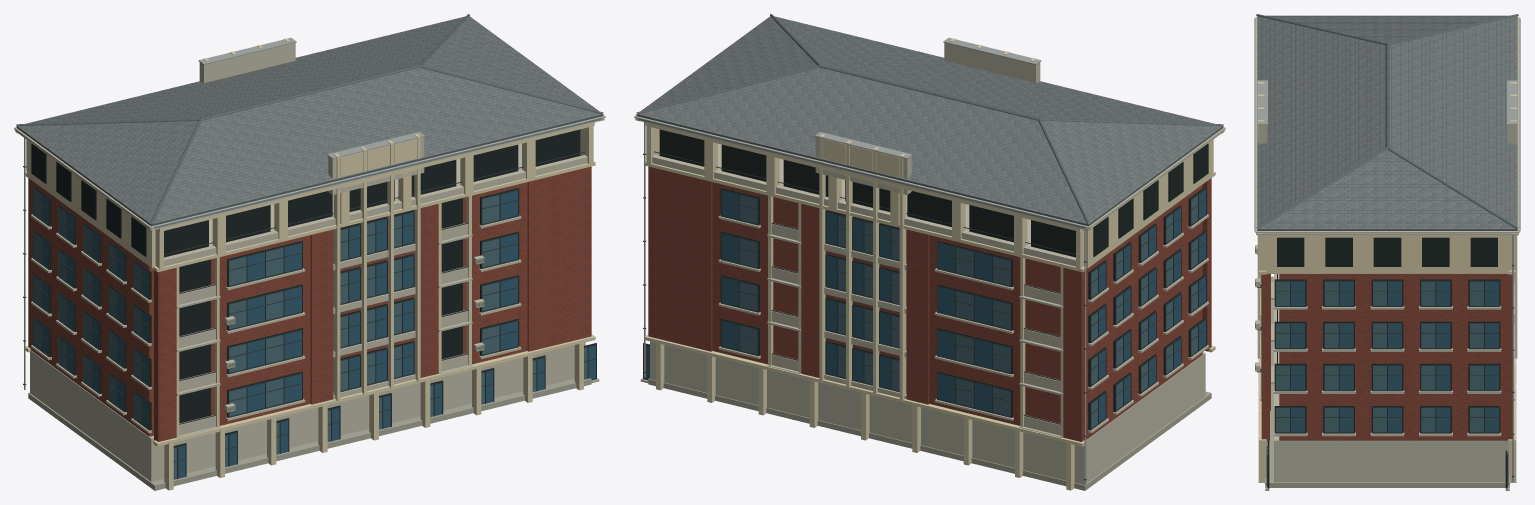
The model's file is photo_teaching_wing.glb.
3 renders of one model, left to right at view 1: azimuth 30°, elevation 25°; view 2: azimuth 150°, elevation 25°; view 3: azimuth 270°, elevation 25°, orthographic. The views are drawn at different scales.
Parts seen in each view (by area): view 1: PhotoTeaching_PhotoLowPitchedRoof_ClippedTileField_3, PhotoTeaching_BroadSolidBrickPiers, PhotoTeaching_PaleStoneGroundBody, PhotoTeaching_PhotoLowPitchedRoof_ClippedTileField_1, PhotoTeaching_SetBackBrickCore, PhotoTeaching_ProjectingClassroomBrickField, PhotoTeaching_PhotoLowPitchedRoof_ClippedTileField_4, PhotoTeaching_AtticDeepOpenCorridor, PhotoTeaching_ClassroomZone2_GlassPane, PhotoTeaching_CentralStair_GlassPane, PhotoTeaching_SideRoom_GlassPane, PhotoTeaching_TallCentralIvoryBlade (+42 smaller); view 2: PhotoTeaching_PhotoLowPitchedRoof_ClippedTileField_1, PhotoTeaching_BroadSolidBrickPiers, PhotoTeaching_PaleStoneGroundBody, PhotoTeaching_SetBackBrickCore, PhotoTeaching_PhotoLowPitchedRoof_ClippedTileField_3, PhotoTeaching_ProjectingClassroomBrickField, PhotoTeaching_PhotoLowPitchedRoof_ClippedTileField_4, PhotoTeaching_AtticDeepOpenCorridor, PhotoTeaching_ClassroomZone2_GlassPane, PhotoTeaching_CentralStair_GlassPane, PhotoTeaching_SideRoom_GlassPane, PhotoTeaching_TallCentralIvoryBlade (+41 smaller); view 3: PhotoTeaching_SetBackBrickCore, PhotoTeaching_PhotoLowPitchedRoof_ClippedTileField_3, PhotoTeaching_PhotoLowPitchedRoof_ClippedTileField_1, PhotoTeaching_SideRoom_GlassPane, PhotoTeaching_PaleStoneGroundBody, PhotoTeaching_PhotoLowPitchedRoof_ClippedTileField_2, PhotoTeaching_PhotoLowPitchedRoof_ThinOverlappingTileCourses, PhotoTeaching_UpperSideIvoryWall, PhotoTeaching_SideAtticDarkOpenings, PhotoTeaching_SideRoom_RecessShadow, PhotoTeaching_PhotoLowPitchedRoof_ClippedTileField_4, PhotoTeaching_PhotoLowPitchedRoof_ContinuousTileUnderlay (+19 smaller).
Boxes of the visible parts, left/top/right/bottom form: PhotoTeaching_PhotoLowPitchedRoof_ClippedTileField_3: left=151, top=67, right=601, bottom=223; PhotoTeaching_BroadSolidBrickPiers: left=28, top=166, right=591, bottom=441; PhotoTeaching_PaleStoneGroundBody: left=30, top=342, right=585, bottom=481; PhotoTeaching_PhotoLowPitchedRoof_ClippedTileField_1: left=21, top=16, right=465, bottom=125; PhotoTeaching_SetBackBrickCore: left=30, top=180, right=466, bottom=436; PhotoTeaching_ProjectingClassroomBrickField: left=219, top=182, right=527, bottom=425; PhotoTeaching_PhotoLowPitchedRoof_ClippedTileField_4: left=18, top=121, right=198, bottom=223; PhotoTeaching_AtticDeepOpenCorridor: left=164, top=129, right=580, bottom=257; PhotoTeaching_ClassroomZone2_GlassPane: left=229, top=243, right=301, bottom=416; PhotoTeaching_CentralStair_GlassPane: left=340, top=212, right=413, bottom=390; PhotoTeaching_SideRoom_GlassPane: left=34, top=190, right=148, bottom=428; PhotoTeaching_TallCentralIvoryBlade: left=203, top=38, right=420, bottom=401; PhotoTeaching_PhotoLowPitchedRoof_ClippedTileField_1: left=638, top=67, right=1088, bottom=224; PhotoTeaching_BroadSolidBrickPiers: left=648, top=166, right=1211, bottom=441; PhotoTeaching_PaleStoneGroundBody: left=650, top=341, right=1205, bottom=484; PhotoTeaching_SetBackBrickCore: left=773, top=184, right=1202, bottom=439; PhotoTeaching_PhotoLowPitchedRoof_ClippedTileField_3: left=774, top=16, right=1218, bottom=125; PhotoTeaching_ProjectingClassroomBrickField: left=712, top=182, right=1020, bottom=425; PhotoTeaching_PhotoLowPitchedRoof_ClippedTileField_4: left=1041, top=121, right=1221, bottom=223; PhotoTeaching_AtticDeepOpenCorridor: left=659, top=129, right=1075, bottom=257; PhotoTeaching_ClassroomZone2_GlassPane: left=938, top=243, right=1010, bottom=416; PhotoTeaching_CentralStair_GlassPane: left=826, top=212, right=899, bottom=390; PhotoTeaching_SideRoom_GlassPane: left=1091, top=190, right=1205, bottom=428; PhotoTeaching_TallCentralIvoryBlade: left=819, top=38, right=1036, bottom=401; PhotoTeaching_SetBackBrickCore: left=1279, top=274, right=1508, bottom=440; PhotoTeaching_PhotoLowPitchedRoof_ClippedTileField_3: left=1257, top=16, right=1386, bottom=228; PhotoTeaching_PhotoLowPitchedRoof_ClippedTileField_1: left=1388, top=16, right=1517, bottom=228; PhotoTeaching_SideRoom_GlassPane: left=1276, top=281, right=1498, bottom=432; PhotoTeaching_PaleStoneGroundBody: left=1274, top=274, right=1508, bottom=482; PhotoTeaching_PhotoLowPitchedRoof_ClippedTileField_2: left=1259, top=149, right=1515, bottom=228; PhotoTeaching_PhotoLowPitchedRoof_ThinOverlappingTileCourses: left=1261, top=17, right=1509, bottom=224; PhotoTeaching_UpperSideIvoryWall: left=1266, top=235, right=1508, bottom=273; PhotoTeaching_SideAtticDarkOpenings: left=1277, top=237, right=1497, bottom=266; PhotoTeaching_SideRoom_RecessShadow: left=1274, top=279, right=1500, bottom=432; PhotoTeaching_PhotoLowPitchedRoof_ClippedTileField_4: left=1266, top=15, right=1508, bottom=42; PhotoTeaching_PhotoLowPitchedRoof_ContinuousTileUnderlay: left=1257, top=16, right=1517, bottom=229.
Size of the model in its own units: 39.95 by 25.11 by 20.91.
Materials: 15 (1 with a texture image).
